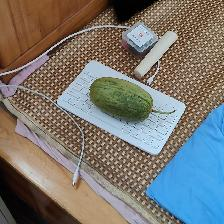gua: (88, 81, 163, 126)
